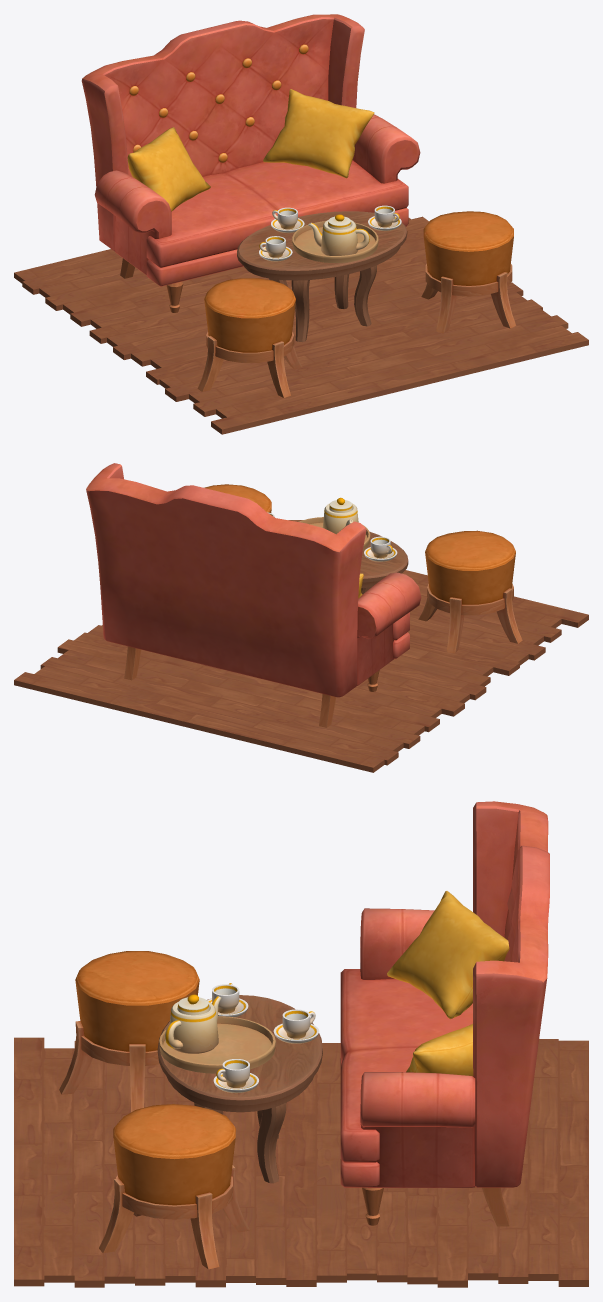
The model's file is Furniture_set_1.fbx.
3 renders of one model, top to bottom at view 1: azimuth 30°, elevation 25°; view 2: azimuth 150°, elevation 25°; view 3: azimuth 270°, elevation 25°, orthographic. The views are drawn at different scales.
Parts seen in each view (by area): view 1: Sofa, Floor, Banquet001, Banquet, Coffee_table_2, Pillow_1, Pillow_002, Teapot, Tray; view 2: Sofa, Floor, Banquet001, Coffee_table_2, Teapot, Banquet, Tea_cup001; view 3: Floor, Sofa, Banquet, Banquet001, Coffee_table_2, Pillow_002, Tray, Teapot, Pillow_1, Tea_cup, Tea_cup_2, Tea_cup001.
Boxes of the visible parts, left/top/right/bottom form: Sofa: left=81, top=14, right=420, bottom=312; Floor: left=14, top=216, right=588, bottom=434; Banquet001: left=197, top=278, right=302, bottom=397; Banquet: left=421, top=211, right=516, bottom=333; Coffee_table_2: left=237, top=211, right=407, bottom=342; Pillow_1: left=263, top=89, right=374, bottom=178; Pillow_002: left=127, top=127, right=210, bottom=211; Teapot: left=308, top=214, right=369, bottom=255; Tray: left=292, top=221, right=378, bottom=262; Sofa: left=86, top=463, right=421, bottom=727; Floor: left=14, top=570, right=588, bottom=772; Banquet001: left=418, top=530, right=522, bottom=653; Coffee_table_2: left=288, top=520, right=408, bottom=594; Teapot: left=322, top=497, right=358, bottom=534; Banquet: left=204, top=484, right=271, bottom=512; Tea_cup001: left=370, top=536, right=392, bottom=558; Floor: left=14, top=1037, right=588, bottom=1287; Sofa: left=340, top=801, right=549, bottom=1226; Banquet: left=99, top=1104, right=250, bottom=1269; Banquet001: left=59, top=951, right=199, bottom=1112; Coffee_table_2: left=157, top=995, right=322, bottom=1183; Pillow_002: left=387, top=891, right=509, bottom=1019; Tray: left=159, top=1016, right=275, bottom=1073; Teapot: left=164, top=994, right=221, bottom=1053; Pillow_1: left=406, top=1024, right=473, bottom=1076; Tea_cup: left=282, top=1009, right=315, bottom=1038; Tea_cup_2: left=216, top=1059, right=249, bottom=1087; Tea_cup001: left=212, top=983, right=239, bottom=1013.
Bounding box in the file's own units: 3008 × 1727 × 3000.
